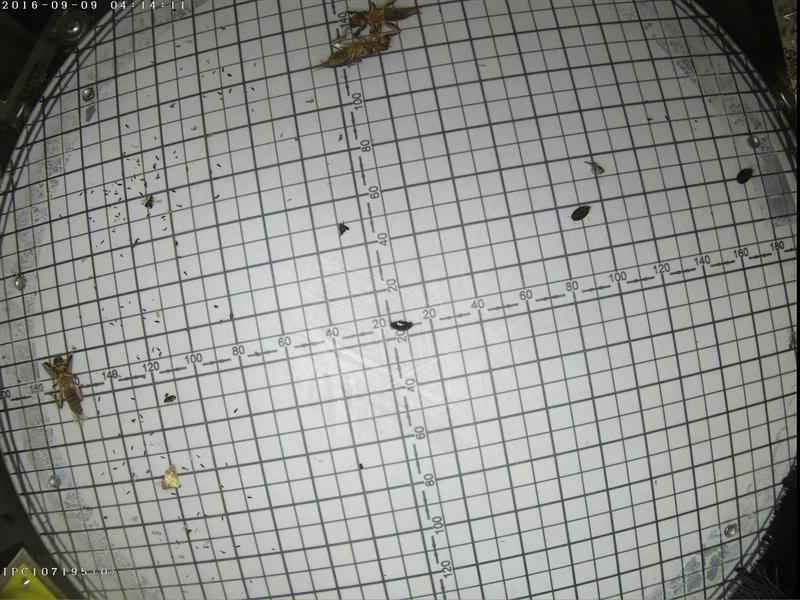Gryllotalpa orientalis: (41, 349, 92, 429), (310, 23, 390, 73), (338, 0, 422, 31)
